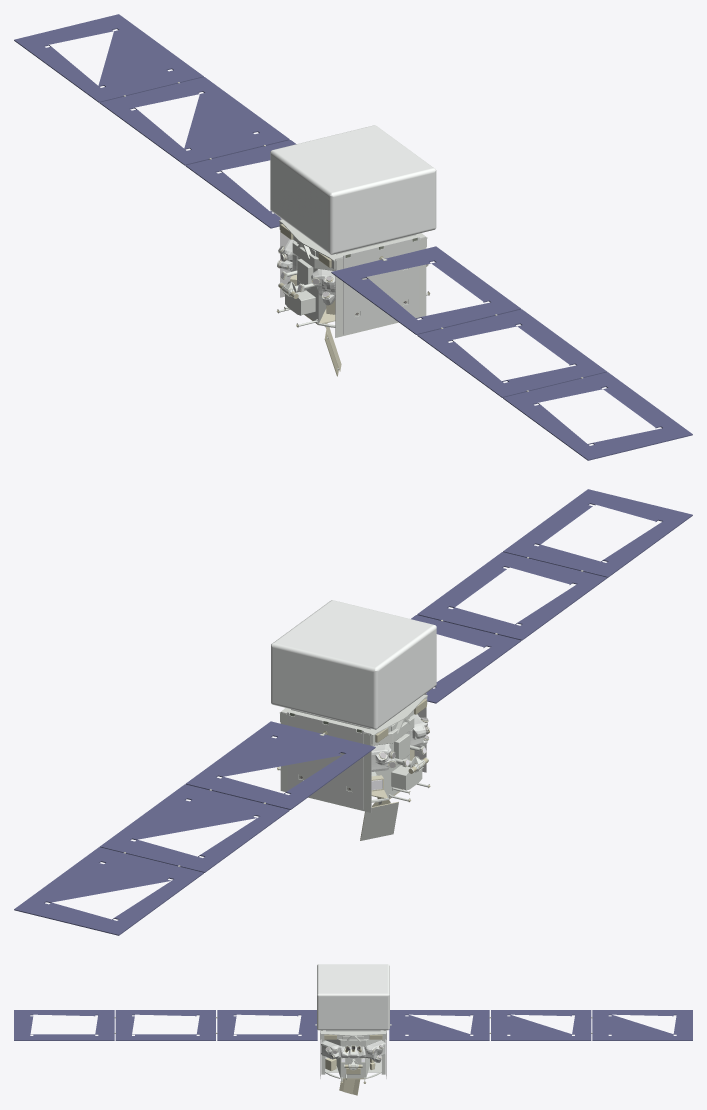
Rendered from space-fermi.glb.
The picture shows the model from 3 angles, top to bottom: view 1: azimuth 30°, elevation 25°; view 2: azimuth 150°, elevation 25°; view 3: azimuth 270°, elevation 25°; orthographic projection. The views are drawn at different scales.
Parts seen in each view (by area): view 1: Layer_0; view 2: Layer_0; view 3: Layer_0.
Part boxes in pixels (<box>): Layer_0: <box>14,14,692,460</box>; Layer_0: <box>14,489,692,935</box>; Layer_0: <box>14,964,692,1095</box>.
Bounding box in the file's own units: 8.54 × 12.09 × 62.31.
1 material, 1 textured.
